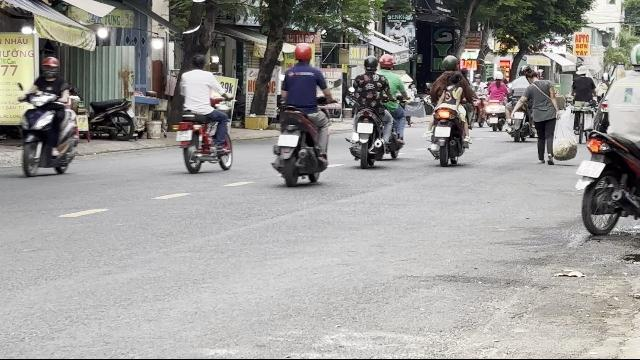helmet: (292, 43, 312, 63), (40, 56, 60, 76), (440, 54, 458, 72), (363, 54, 379, 72), (378, 53, 394, 69)
licenseplate: (576, 160, 604, 176), (278, 134, 298, 146), (356, 122, 374, 134), (436, 126, 450, 138), (176, 130, 192, 140)
motorcyclist: (574, 42, 640, 246), (272, 42, 332, 186), (15, 56, 81, 178), (172, 52, 234, 174), (346, 53, 408, 167), (424, 55, 474, 166)
nohelmet: (190, 54, 207, 70)
